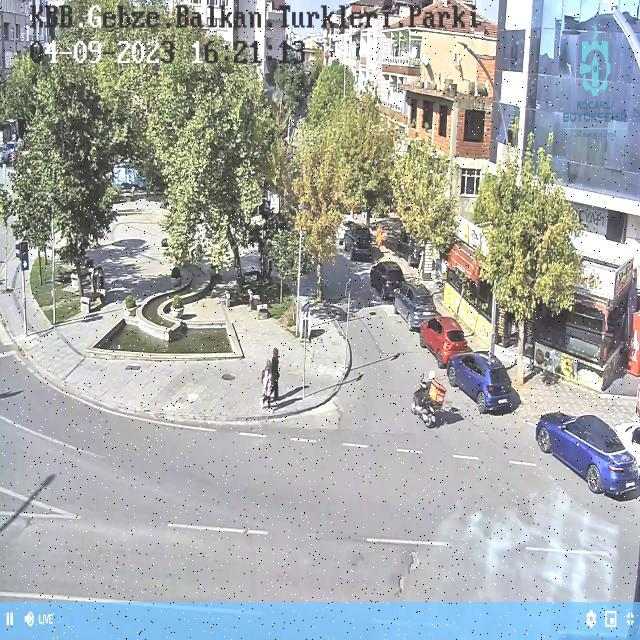car: (535, 412, 640, 494), (448, 352, 519, 412), (419, 316, 468, 368), (394, 282, 440, 330), (370, 261, 405, 299), (344, 225, 372, 261)
motorcyclist: (411, 381, 462, 428)
traffic-lights: (16, 241, 29, 271)
